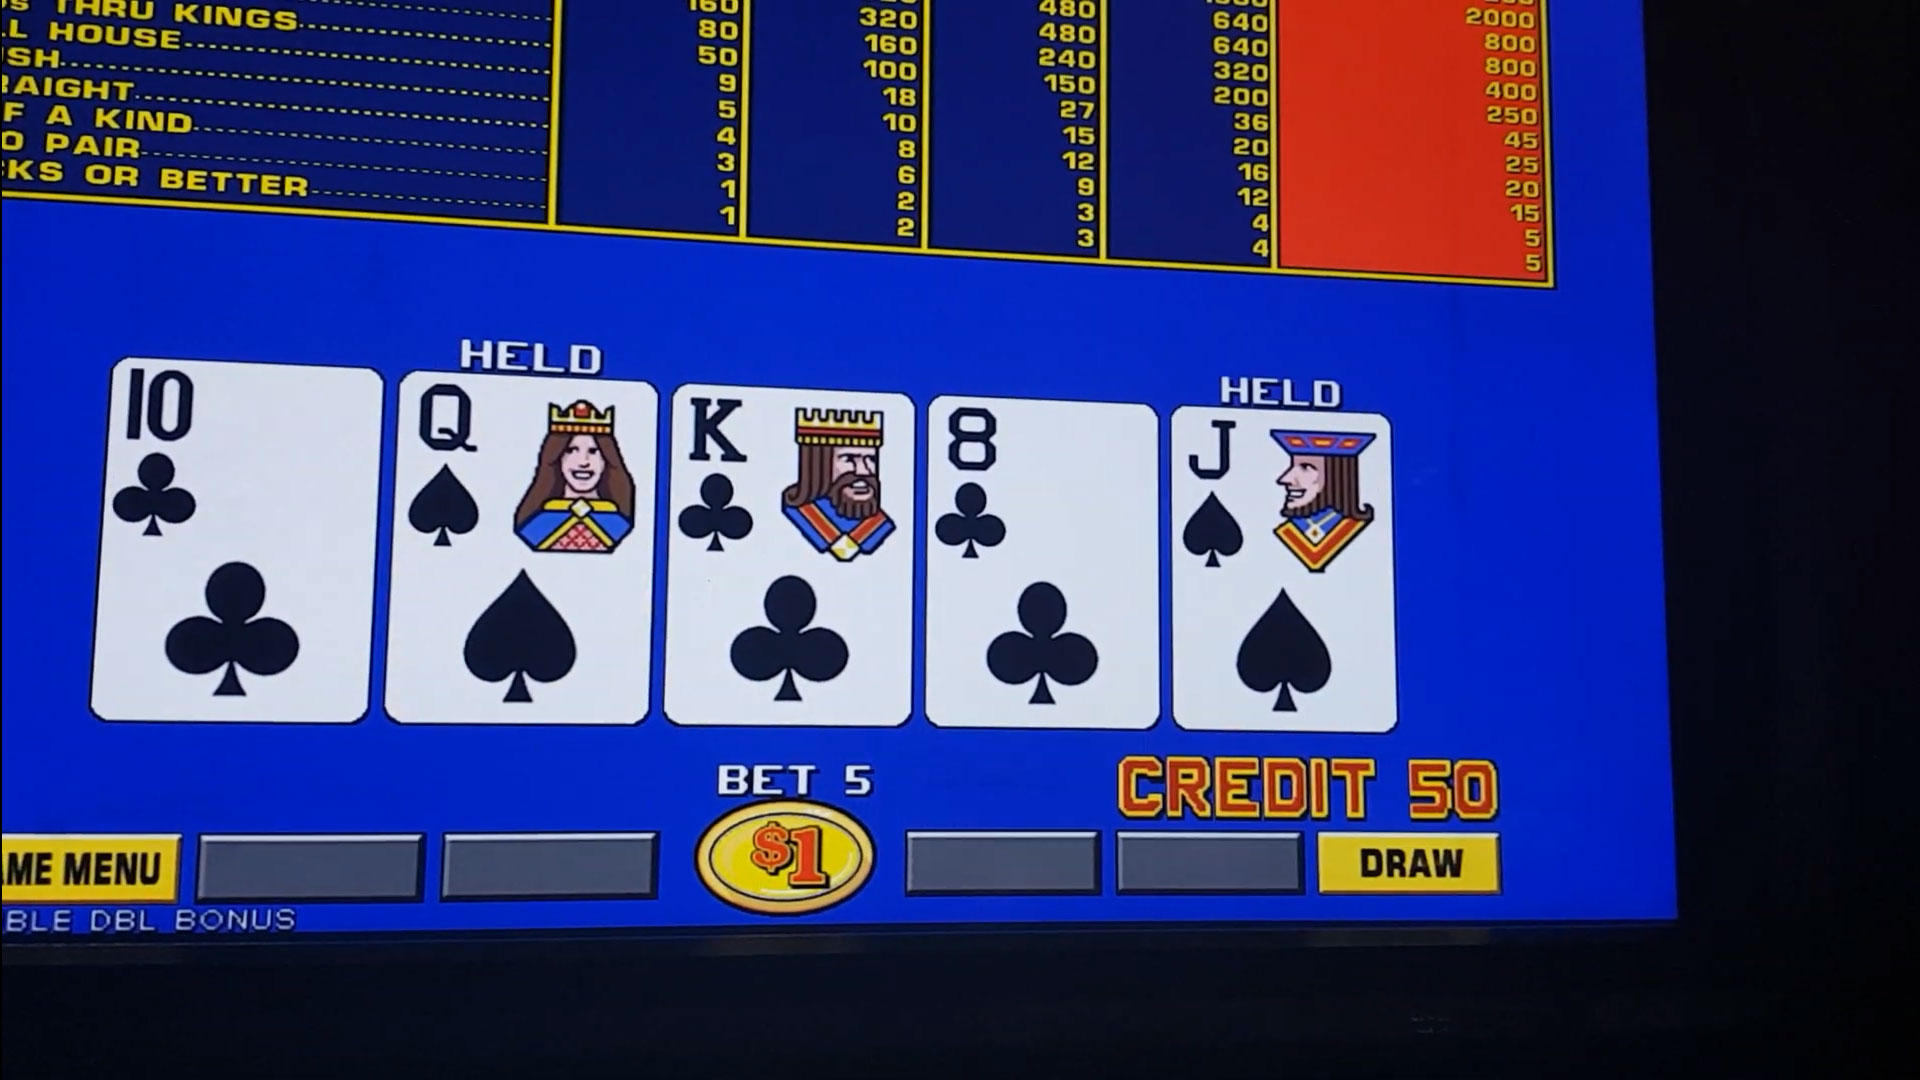CK: (676, 400, 907, 564)
CT: (117, 372, 377, 555)
SJ: (1174, 415, 1385, 578)
SQ: (406, 384, 650, 568)
c8: (928, 404, 1153, 568)
